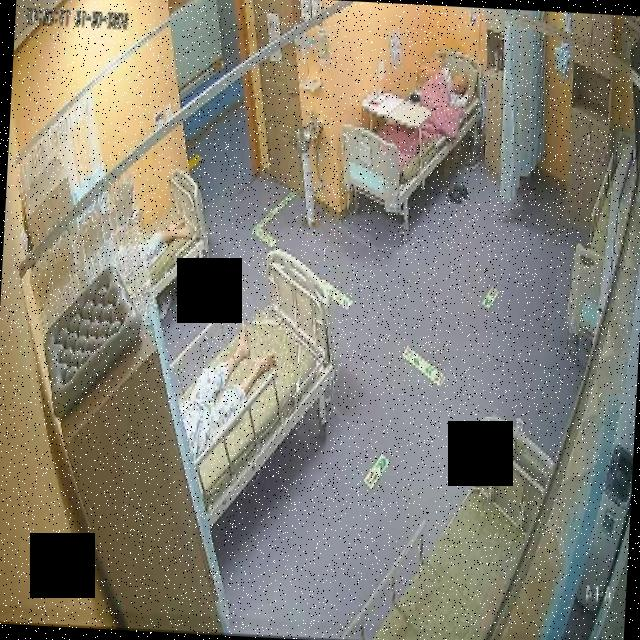bed: (340, 405, 556, 640), (172, 246, 340, 526), (340, 46, 484, 216), (140, 168, 212, 300)
lie: (175, 315, 276, 463), (387, 57, 474, 146)
patient: (175, 316, 275, 464), (435, 60, 473, 114)
